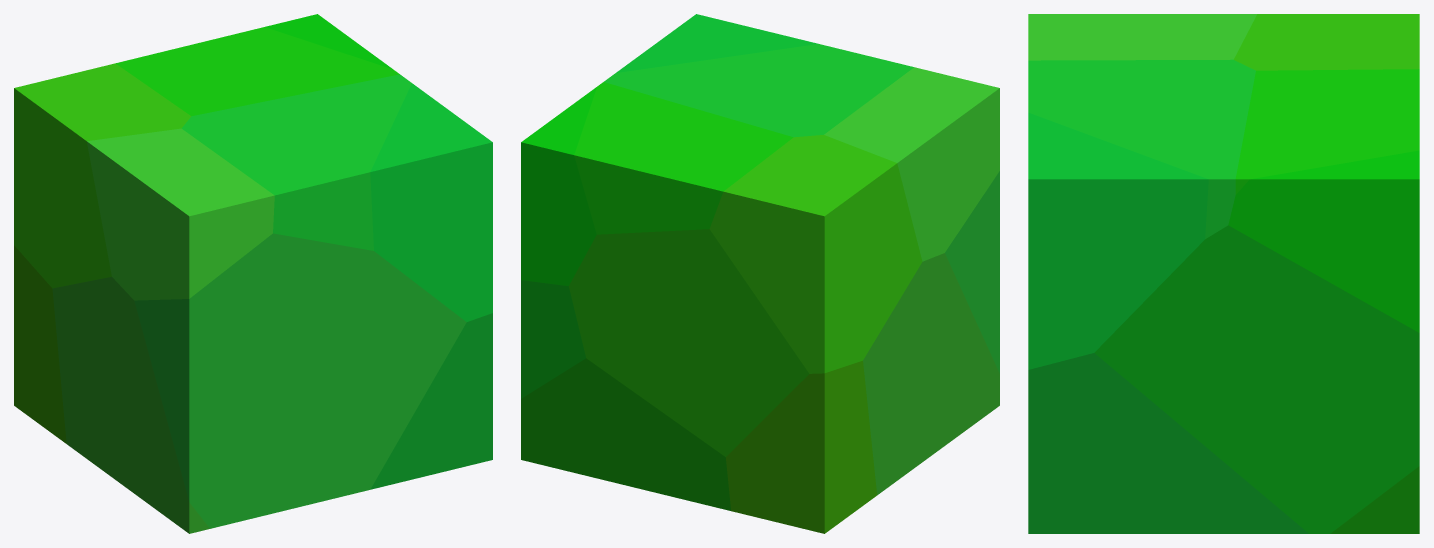
Rendered from vertex_animation_textures1_mesh.fbx.
The picture shows the model from 3 angles, left to right: view 1: azimuth 30°, elevation 25°; view 2: azimuth 150°, elevation 25°; view 3: azimuth 270°, elevation 25°; orthographic projection. The views are drawn at different scales.
Visible parts, largest first — view 1: MESH; view 2: MESH; view 3: MESH.
Part boxes in pixels (x1,y1,x2,y2): MESH: [14, 14, 492, 533]; MESH: [521, 14, 999, 533]; MESH: [1028, 14, 1419, 533].
Size of the model in its own units: 100 by 100 by 100.
